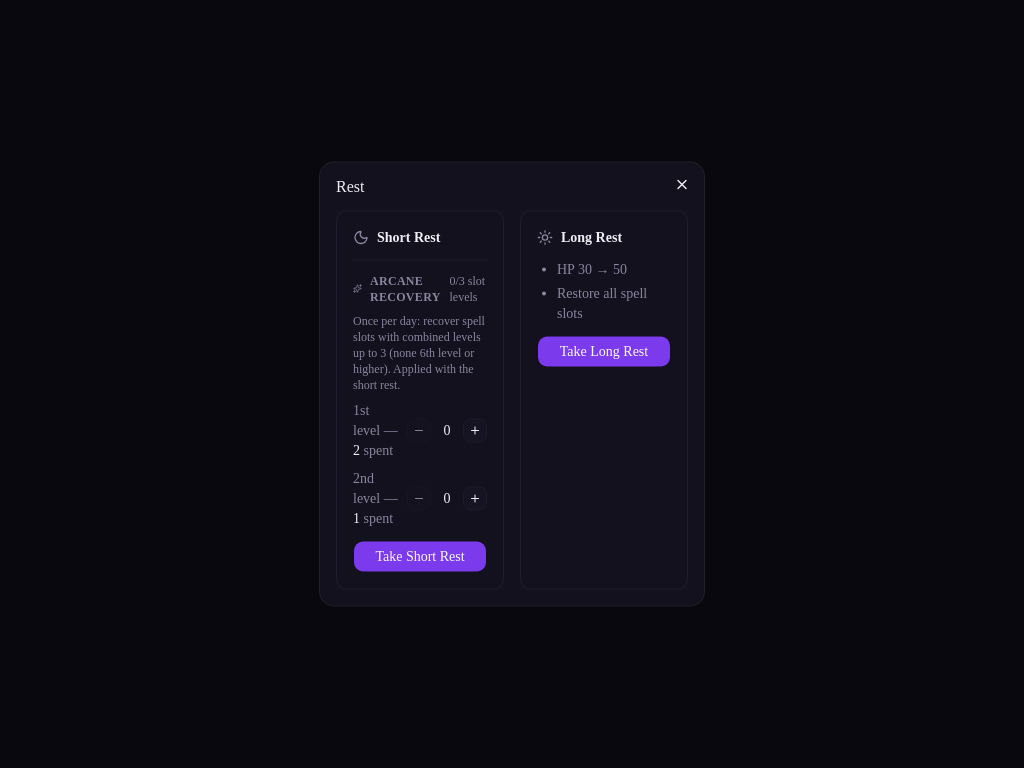
Scenario: RestDialog — Arcane Recovery section › steppers update the live budget and the preview line
This screenshot has width=1024, height=768.
Click the button named "Recover one more 1st-level slot" at (475, 430), box [463,418,487,442]
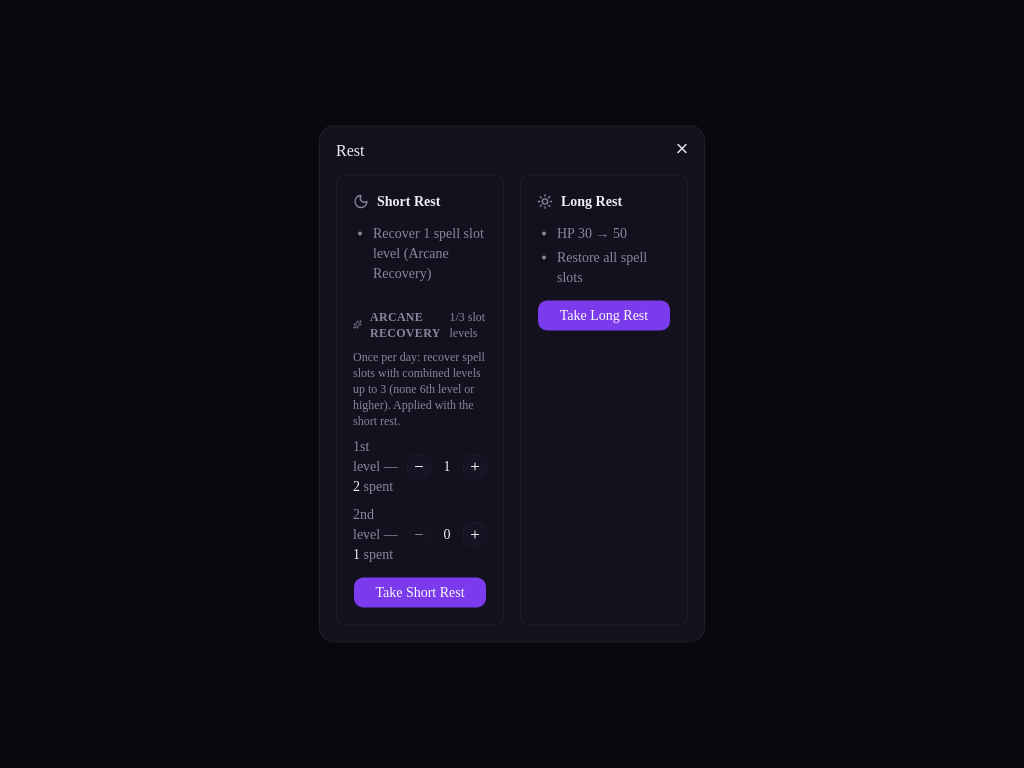
expect the text "1/3 slot levels" is shown: met, box [450,308,487,340]
Click the button named "Recover one more 2nd-level slot" at (475, 534), box [463,522,487,546]
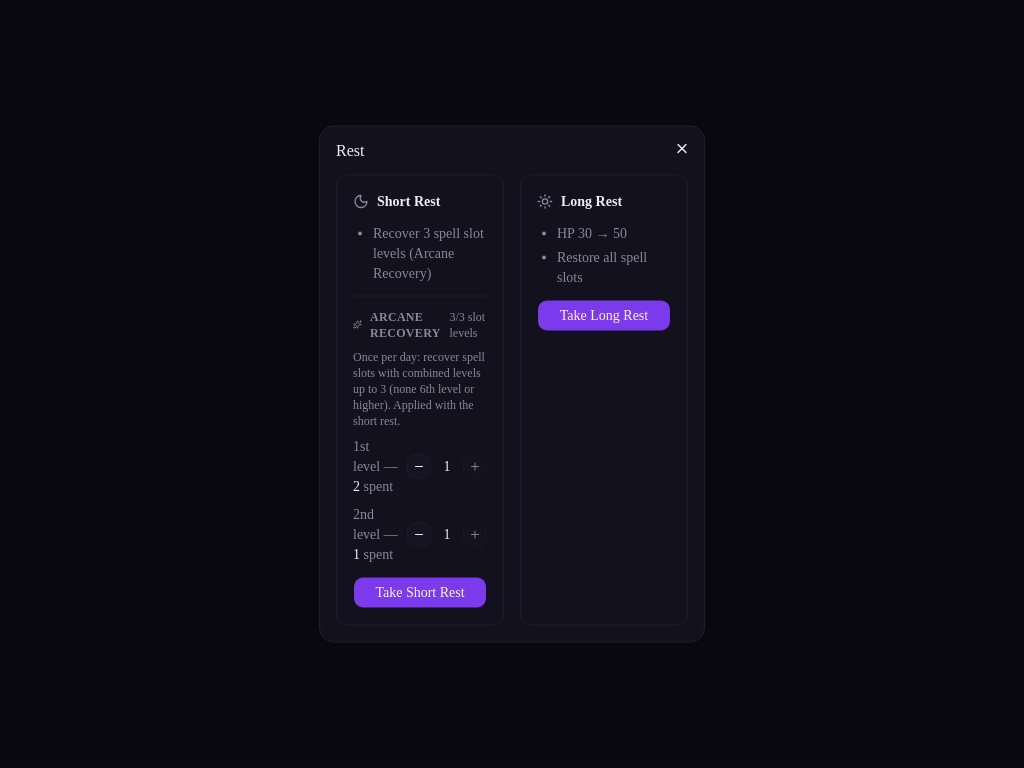
expect the text "3/3 slot levels" is shown: met, box [450,308,487,340]
expect the list item "Recover 3 spell slot levels (Arcane Recovery)" is shown: met, box [373,224,487,284]
Click the button named "Recover one fewer 2nd-level slot" at (419, 534), box [407,522,431,546]
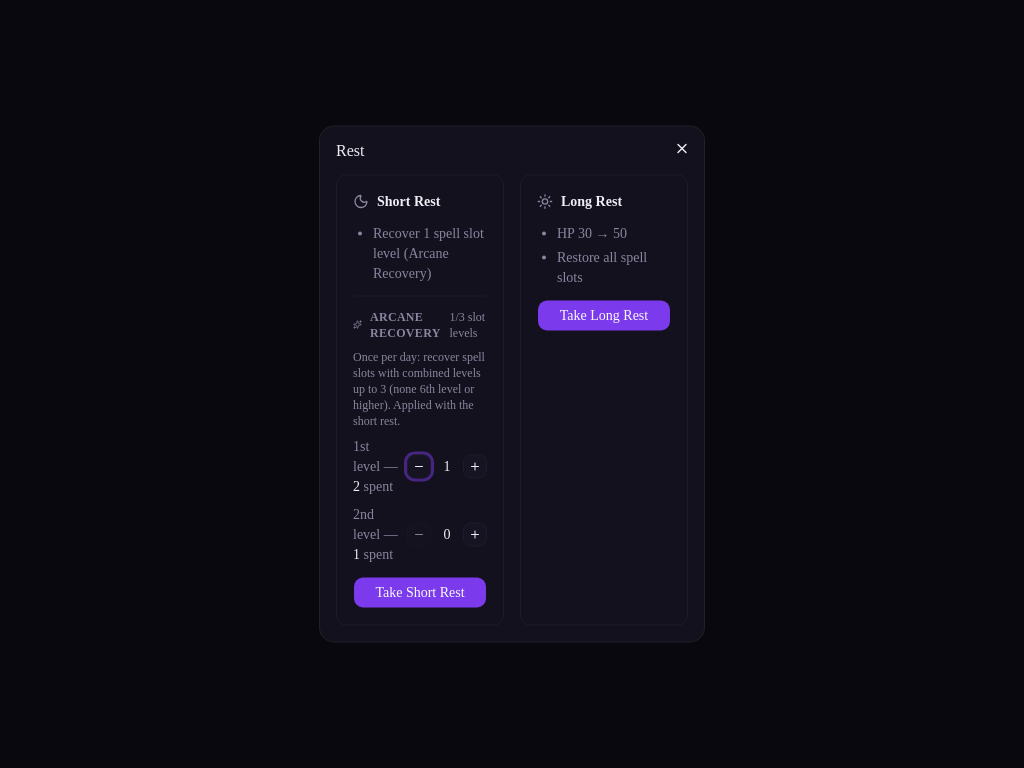
expect the text "1/3 slot levels" is shown: met, box [450,308,487,340]
expect the list item "Recover 1 spell slot level (Arcane Recovery)" is shown: met, box [373,224,487,284]
